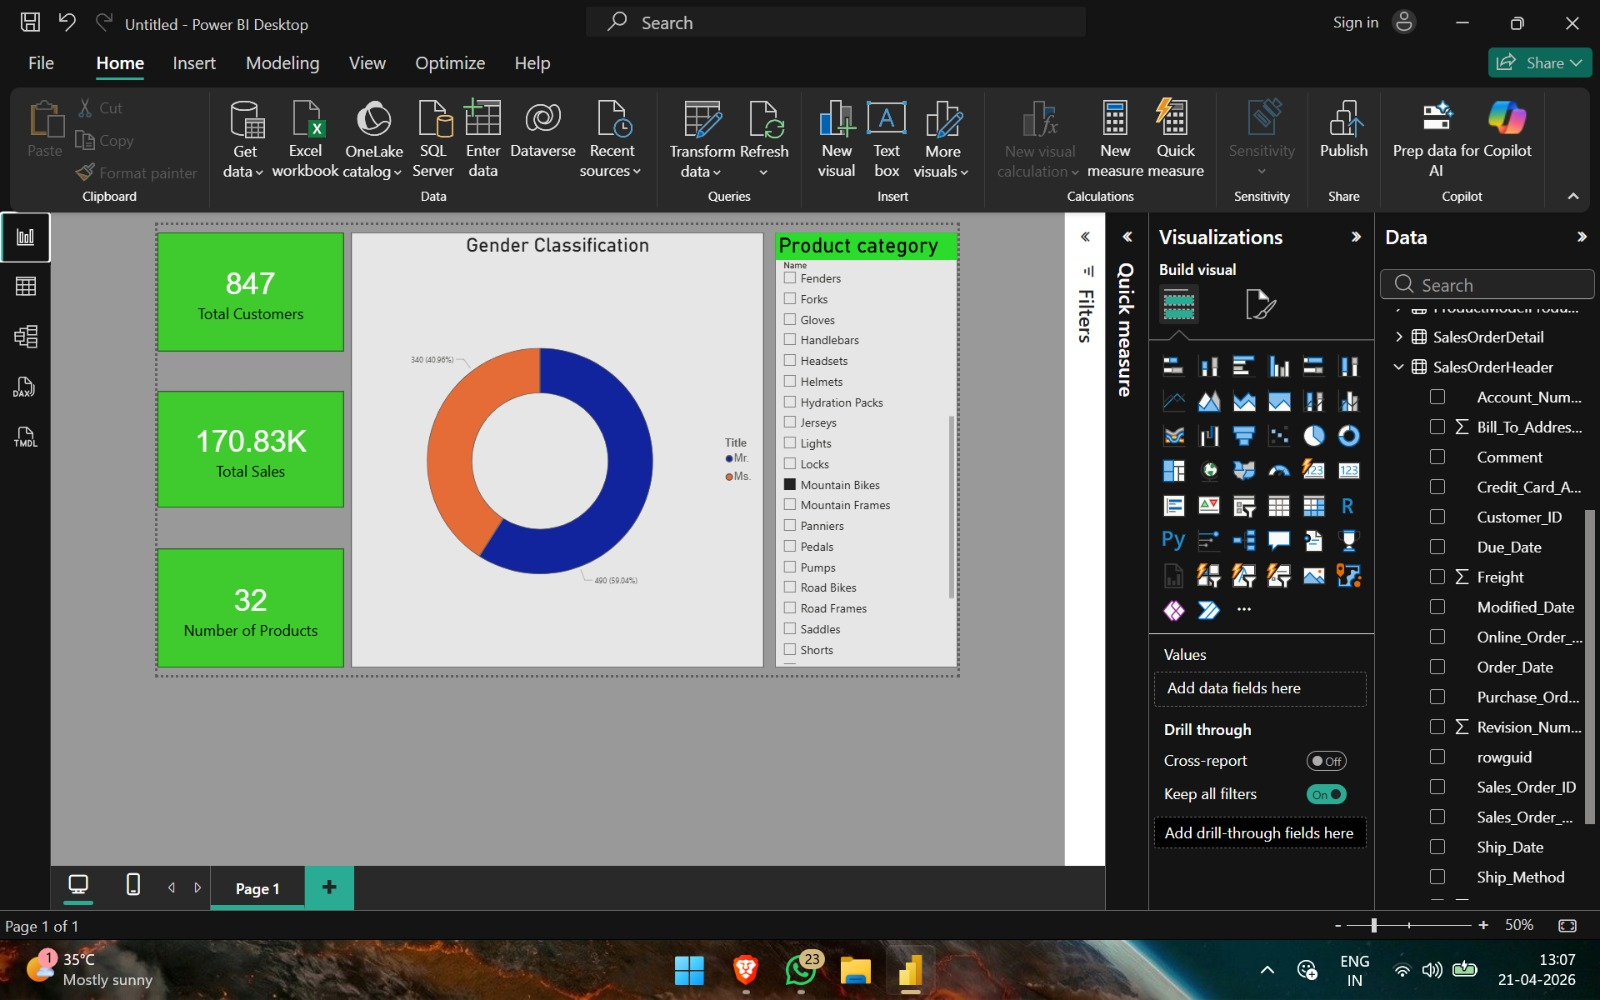

This screenshot's page, from the dashboard's own definition file:
{"tool":"powerbi","page":{"name":"Page 1","canvas":[1280,720],"ordinal":0},"visuals":[{"type":"card","fields":{"Values":["CountNonNull(Product.Product_ID)"]},"box":[0,518,298,190],"z":0},{"type":"card","fields":{"Values":["Sum(SalesOrderDetail.Line_Total)"]},"box":[0,266,298,186],"z":1000},{"type":"card","fields":{"Values":["Count(Customer.Customer_ID)"]},"box":[0,12,298,190],"z":2000},{"type":"donutChart","title":"Gender Classification","fields":{"Y":["Count(Customer.Customer_ID)"],"Category":["Customer.Title"]},"box":[310,12,660,696],"z":3000},{"type":"slicer","title":"Product category","fields":{"Values":["ProductCategory.Name"]},"box":[988,12,292,696],"z":4000}]}

Visuals, with their boxes on the page's 1280x720 design canvas (x1, y1, x2, y2). These are canvas units, not pixel positions in the 1600x1000 screenshot, which may show the page scaled, cropped or inside an application window:
card - CountNonNull(Product.Product_ID): box=[0, 518, 298, 708]
card - Sum(SalesOrderDetail.Line_Total): box=[0, 266, 298, 452]
card - Count(Customer.Customer_ID): box=[0, 12, 298, 202]
"Gender Classification" donutChart: box=[310, 12, 970, 708]
"Product category" slicer: box=[988, 12, 1280, 708]
